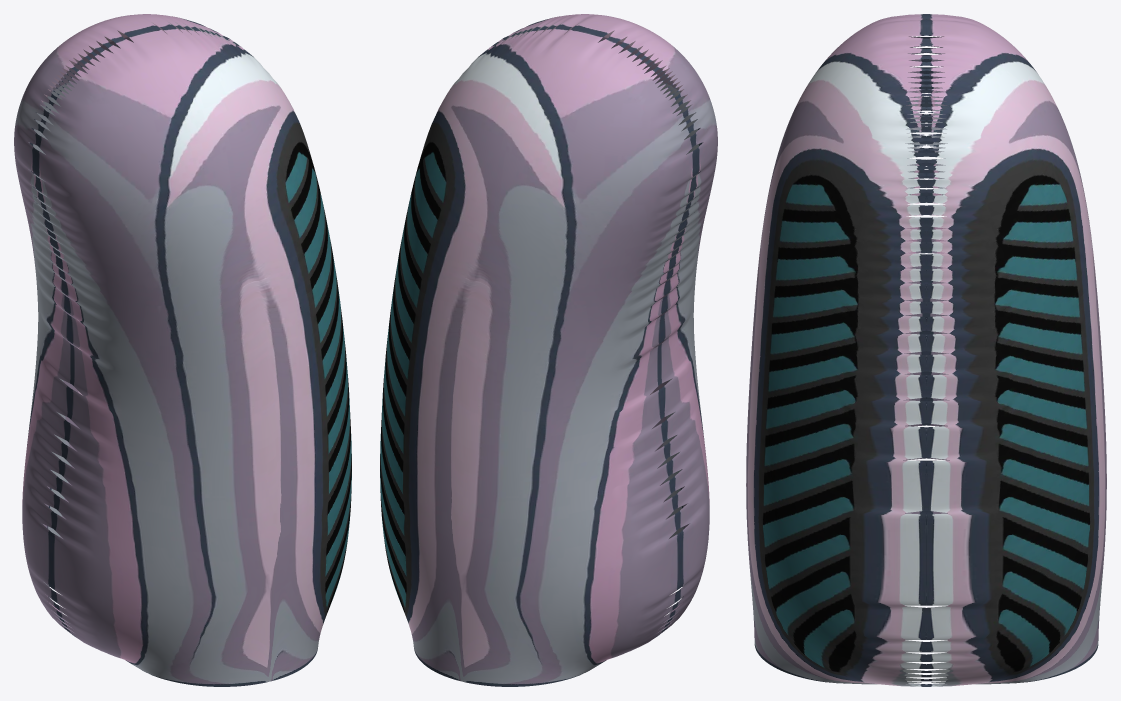
The model's file is vent_column.glb.
3 renders of one model, left to right at view 1: azimuth 30°, elevation 25°; view 2: azimuth 150°, elevation 25°; view 3: azimuth 270°, elevation 25°, orthographic.
Parts seen in each view (by area): view 1: vent_column; view 2: vent_column; view 3: vent_column.
Boxes of the visible parts, x1,y1,x2,y2 form: vent_column: (14,14,351,686); vent_column: (380,14,717,686); vent_column: (746,14,1106,686).
Bounding box in the file's own units: 0.9782 × 1.96 × 1.08.
Materials: 1 (1 with a texture image).
